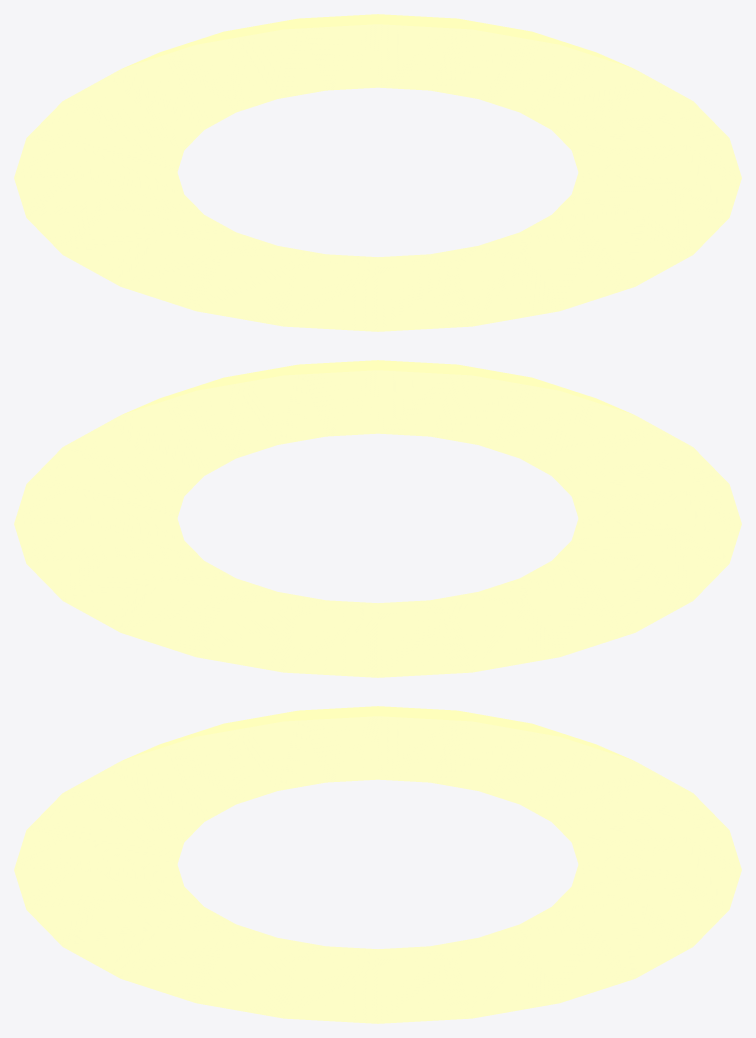
The model's file is vfx_ring_fire.glb.
3 views of the same model, one above another, from view 1: azimuth 30°, elevation 25°; view 2: azimuth 150°, elevation 25°; view 3: azimuth 270°, elevation 25° (orthographic).
Parts seen in each view (by area): view 1: VfxRoot; view 2: VfxRoot; view 3: VfxRoot.
Part boxes in pixels (box(x1,y1,x2,y2)): VfxRoot: box(14, 14, 741, 331); VfxRoot: box(14, 360, 741, 677); VfxRoot: box(14, 706, 741, 1023).
Size of the model in its own units: 2.36 by 0.12 by 2.36.
